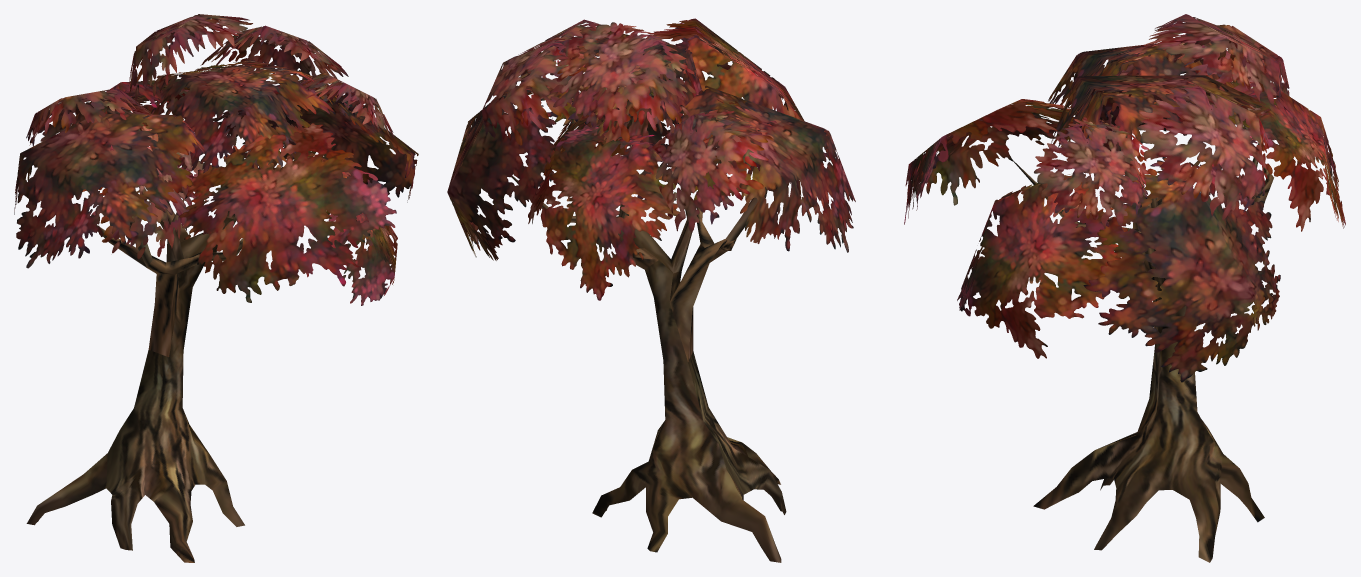
The model's file is FOL_TreeCherryB.FBX.
The picture shows the model from 3 angles, left to right: view 1: azimuth 30°, elevation 25°; view 2: azimuth 150°, elevation 25°; view 3: azimuth 270°, elevation 25°; orthographic projection. The views are drawn at different scales.
Visible parts, largest first — view 1: FOL_TreeCherryB; view 2: FOL_TreeCherryB; view 3: FOL_TreeCherryB.
Boxes of the visible parts, x1,y1,x2,y2 form: FOL_TreeCherryB: (14,14,418,562); FOL_TreeCherryB: (447,18,855,562); FOL_TreeCherryB: (904,14,1345,562).
Size of the model in its own units: 1654 by 1930 by 1508.
1 material, 1 textured.
